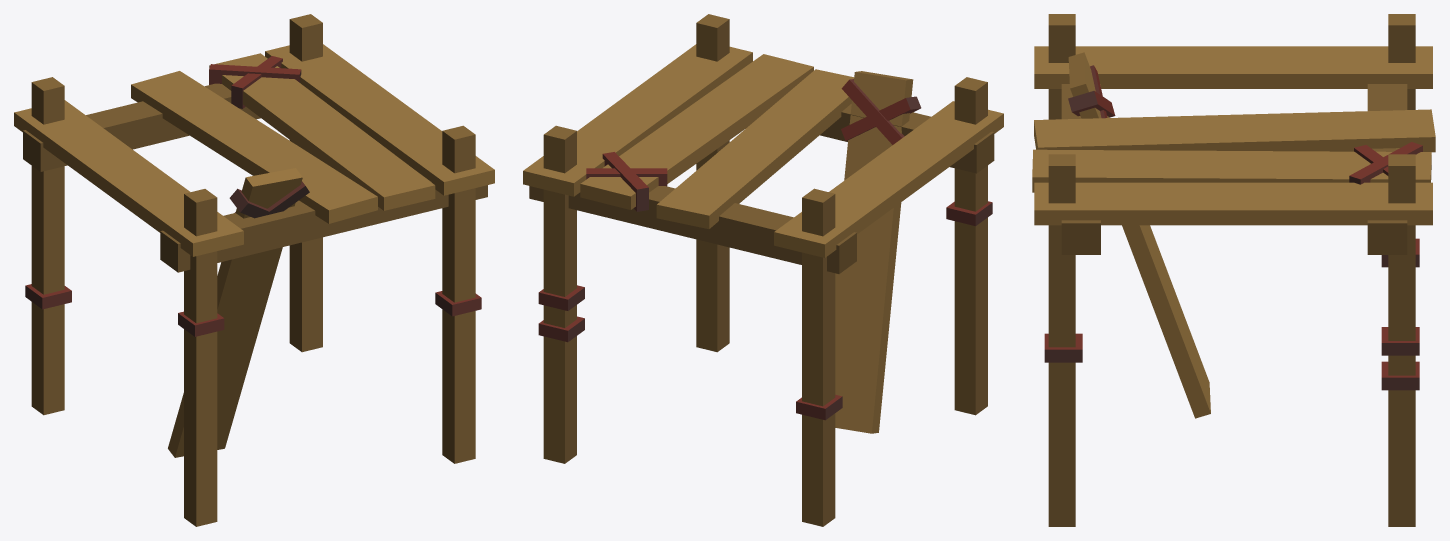
Rendered from Bridge1.fbx.
3 renders of one model, left to right at view 1: azimuth 30°, elevation 25°; view 2: azimuth 150°, elevation 25°; view 3: azimuth 270°, elevation 25°, orthographic. The views are drawn at different scales.
Parts seen in each view (by area): view 1: ST_Env_Bridge_03; view 2: ST_Env_Bridge_03; view 3: ST_Env_Bridge_03.
Boxes of the visible parts, x1=… form: ST_Env_Bridge_03: x1=14, y1=14, x2=494, y2=526; ST_Env_Bridge_03: x1=523, y1=14, x2=1003, y2=526; ST_Env_Bridge_03: x1=1032, y1=14, x2=1435, y2=526.
Bounding box in the file's own units: 2 × 2 × 2.03.
